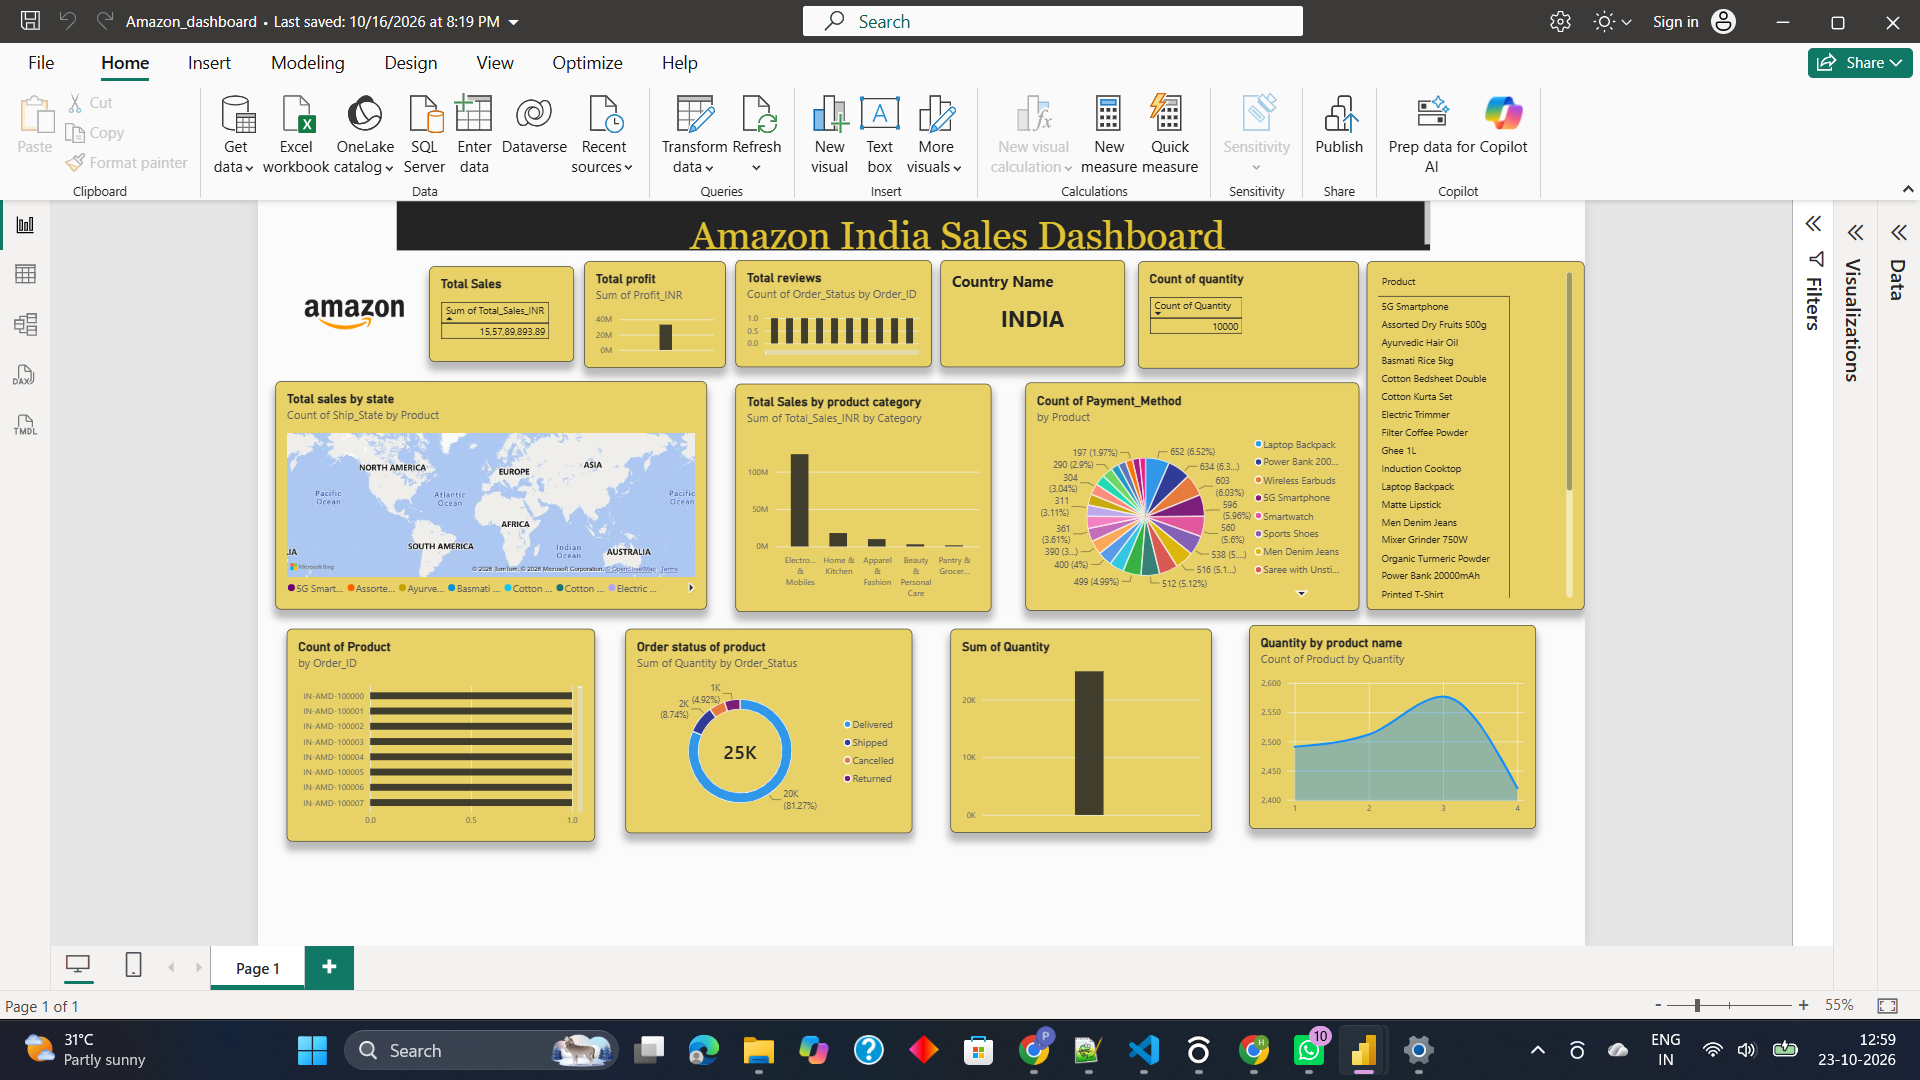

What the dashboard file says about the page in this screenshot:
{"tool":"powerbi","page":{"name":"Page 1","canvas":[1920,1080],"ordinal":0},"visuals":[{"type":"tableEx","title":"Total Sales","fields":{"Values":["Sum(Sheet1.Total_Sales_INR)"]},"box":[247.4,95.9,209.3,138.1],"z":0},{"type":"textbox","box":[200,1.9,1496.2,71.2],"z":1000},{"type":"columnChart","title":"Total profit","fields":{"Y":["Sum(Sheet1.Profit_INR)"]},"box":[472.3,89.2,205.2,154.6],"z":2000},{"type":"columnChart","title":"Total reviews","fields":{"Category":["Sheet1.Order_ID"],"Y":["CountNonNull(Sheet1.Order_Status)"]},"box":[691.2,87.5,283.8,155],"z":3000},{"type":"image","box":[0,66.2,278.8,197.5],"z":4000},{"type":"textbox","box":[988.8,87.5,267.5,155],"z":5000},{"type":"columnChart","fields":{"Y":["Sum(Sheet1.Quantity)"]},"box":[1001.9,621.2,378.5,295.4],"z":6000},{"type":"map","title":"Total sales by state","fields":{"Series":["Sheet1.Product"],"Size":["CountNonNull(Sheet1.Ship_State)"]},"box":[26.2,263.1,624.6,330.8],"z":7000},{"type":"columnChart","title":"Total Sales by product category","fields":{"Y":["Sum(Sheet1.Total_Sales_INR)"],"Category":["Sheet1.Category"]},"box":[690.8,266.2,370.8,330.8],"z":8000},{"type":"pieChart","fields":{"Y":["CountNonNull(Sheet1.Payment_Method)"],"Category":["Sheet1.Product"]},"box":[1110.8,264.6,483.1,330.8],"z":9000},{"type":"barChart","fields":{"Category":["Sheet1.Order_ID"],"Y":["CountNonNull(Sheet1.Product)"]},"box":[42.3,621.2,446.2,307.7],"z":10000},{"type":"donutChart","title":"Order status of product","fields":{"Category":["Sheet1.Order_Status"],"Y":["Sum(Sheet1.Quantity)"]},"box":[532.7,621.2,415.4,296.2],"z":11000},{"type":"tableEx","title":"Count of quantity ","fields":{"Values":["CountNonNull(Sheet1.Quantity)"]},"box":[1273.8,89.2,320,155.4],"z":12000},{"type":"stackedAreaChart","title":"Quantity by product name","fields":{"Category":["Sheet1.Quantity"],"Y":["CountNonNull(Sheet1.Product)"]},"box":[1434.6,615.4,415.4,295.4],"z":13000},{"type":"pivotTable","fields":{"Rows":["Sheet1.Product"]},"box":[1604.6,89.2,315.4,504.6],"z":14000}]}

Visuals, with their boxes on the page's 1920x1080 design canvas (x1, y1, x2, y2). These are canvas units, not pixel positions in the 1920x1080 screenshot, which may show the page scaled, cropped or inside an application window:
"Total Sales" tableEx: (x1=247, y1=96, x2=457, y2=234)
textbox: (x1=200, y1=2, x2=1696, y2=73)
"Total profit" columnChart: (x1=472, y1=89, x2=678, y2=244)
"Total reviews" columnChart: (x1=691, y1=88, x2=975, y2=242)
image: (x1=0, y1=66, x2=279, y2=264)
textbox: (x1=989, y1=88, x2=1256, y2=242)
columnChart - Sum(Sheet1.Quantity): (x1=1002, y1=621, x2=1380, y2=917)
"Total sales by state" map: (x1=26, y1=263, x2=651, y2=594)
"Total Sales by product category" columnChart: (x1=691, y1=266, x2=1062, y2=597)
pieChart - CountNonNull(Sheet1.Payment_Method) x Sheet1.Product: (x1=1111, y1=265, x2=1594, y2=595)
barChart - Sheet1.Order_ID x CountNonNull(Sheet1.Product): (x1=42, y1=621, x2=488, y2=929)
"Order status of product" donutChart: (x1=533, y1=621, x2=948, y2=917)
"Count of quantity " tableEx: (x1=1274, y1=89, x2=1594, y2=245)
"Quantity by product name" stackedAreaChart: (x1=1435, y1=615, x2=1850, y2=911)
pivotTable - Sheet1.Product: (x1=1605, y1=89, x2=1920, y2=594)
